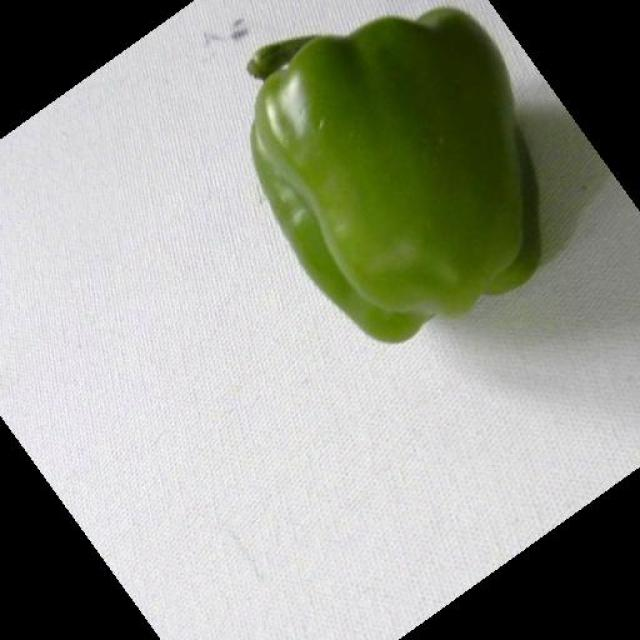Fresh_Capsicum: (246, 19, 561, 318)
